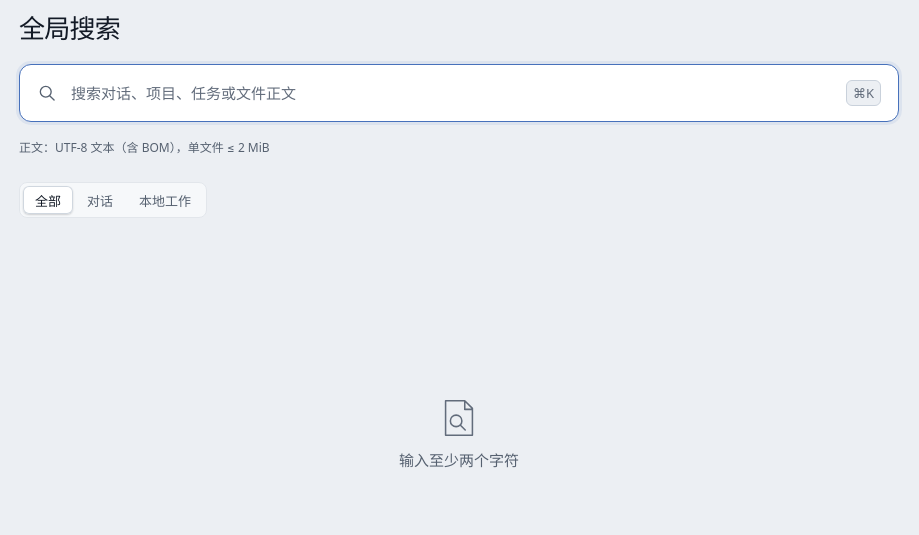
Test case: 统一检索页面 › 默认只请求本地工作与原生会话并展示部分失败
Type "许可证" into the search field named "全局搜索" at x=452, y=93, box [71,83,834,103]
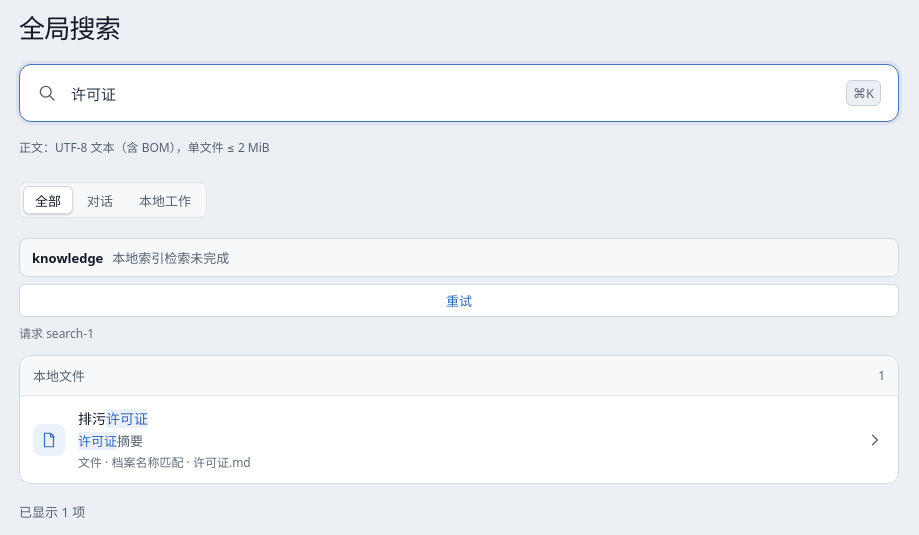
expect the button "排污许可证 许可证摘要 文件 · 档案名称匹配 · 许可证.md" is shown: met, box [20,396,898,483]
expect the text "本地索引检索未完成" is shown: met, box [112,248,229,267]
expect the text "请求 search-1" is shown: met, box [19,325,94,342]
